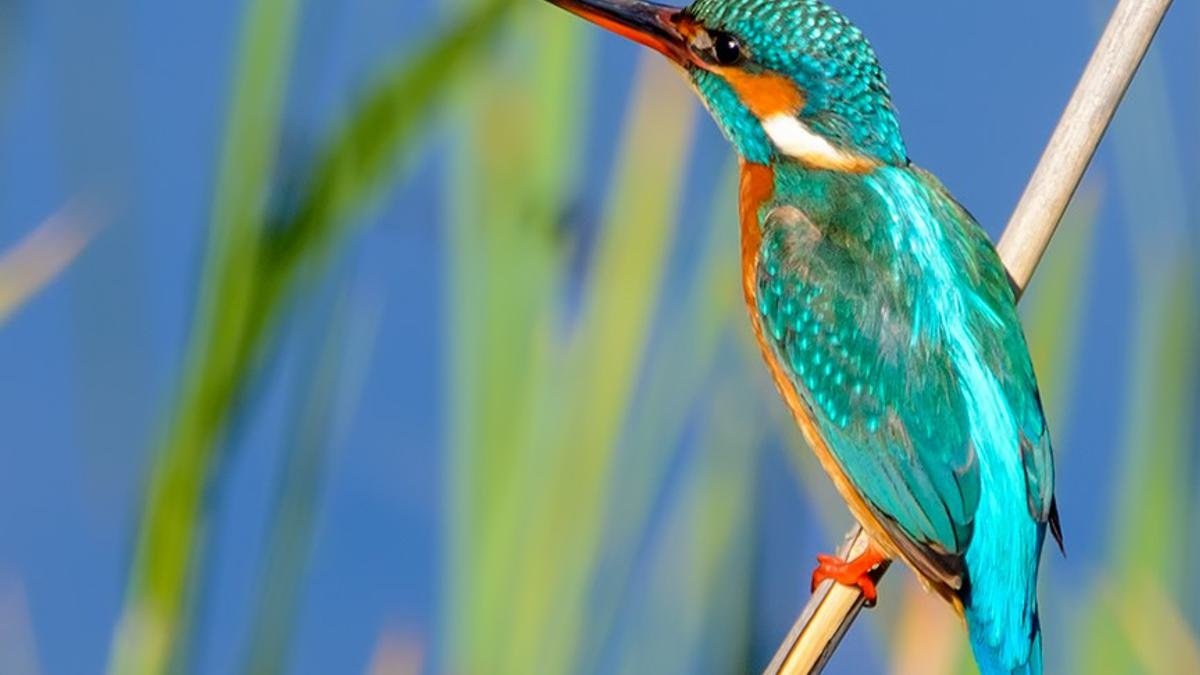kingfisher: (558, 1, 1099, 663)
